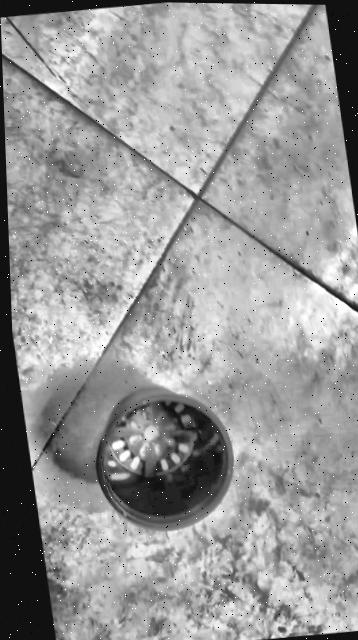pot: (84, 379, 243, 538)
